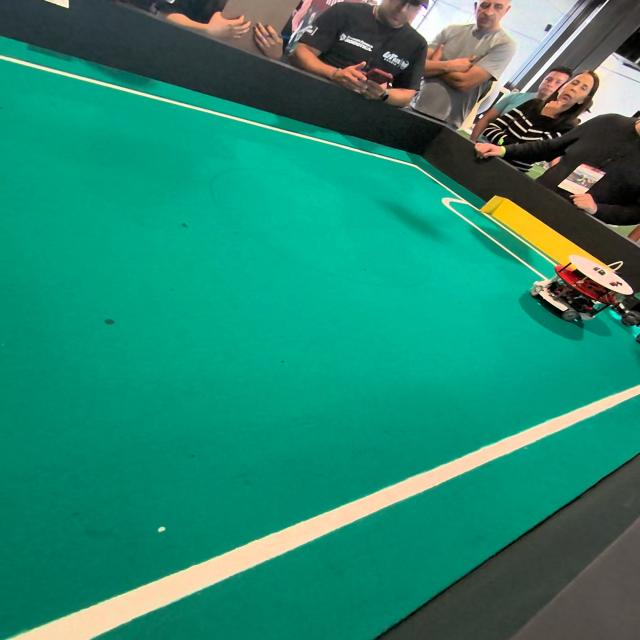Robot: (522, 255, 629, 332), (615, 272, 640, 333)
